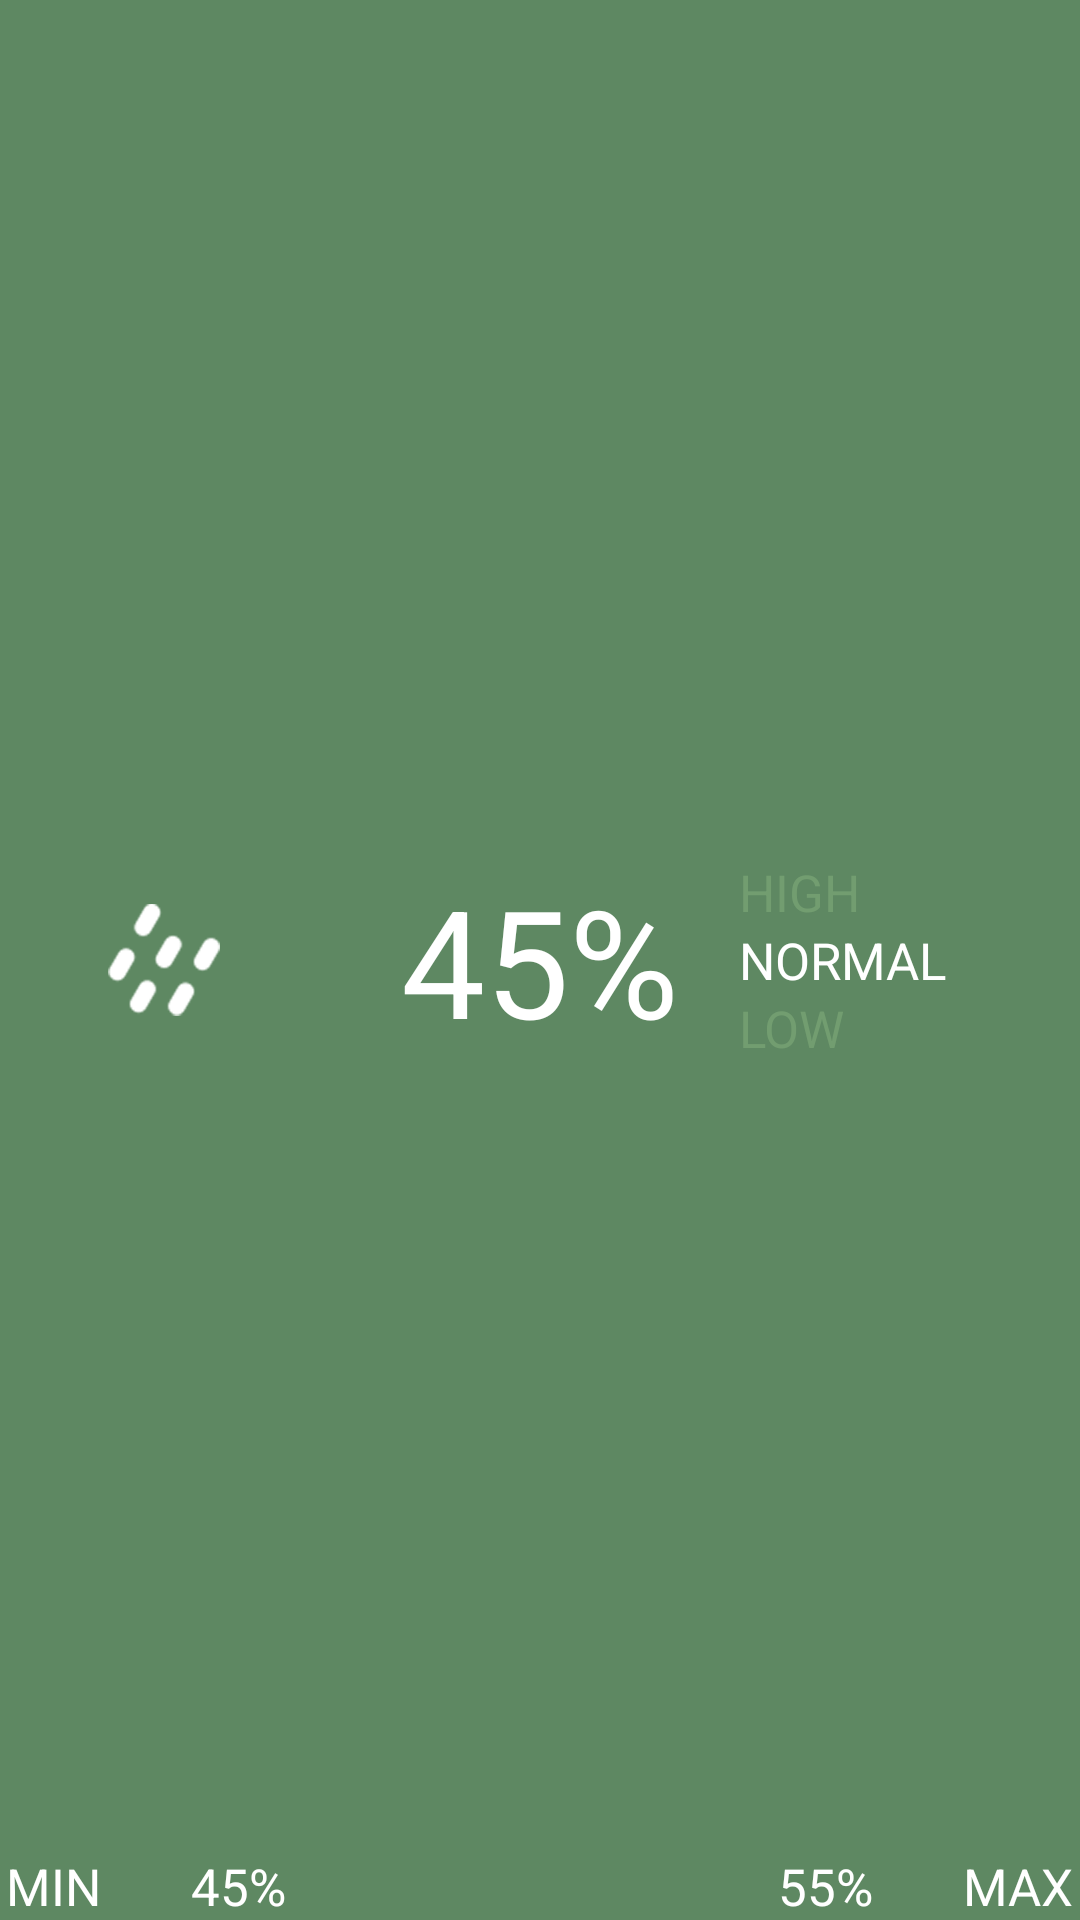

Icon bounding boxes for this 1080px×1920px phone screenshot, format (x1, y1, x2, y2):
humidity: (108, 904, 220, 1016)
